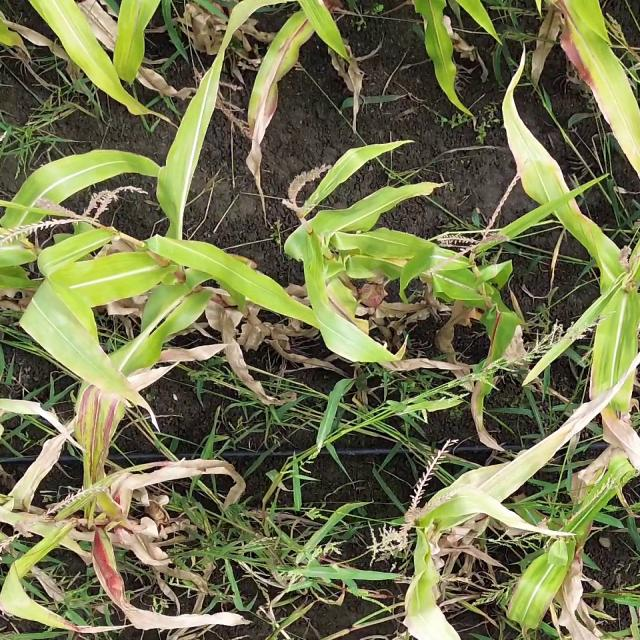northern-leaf-blight: (498, 118, 583, 220), (250, 28, 300, 115)
